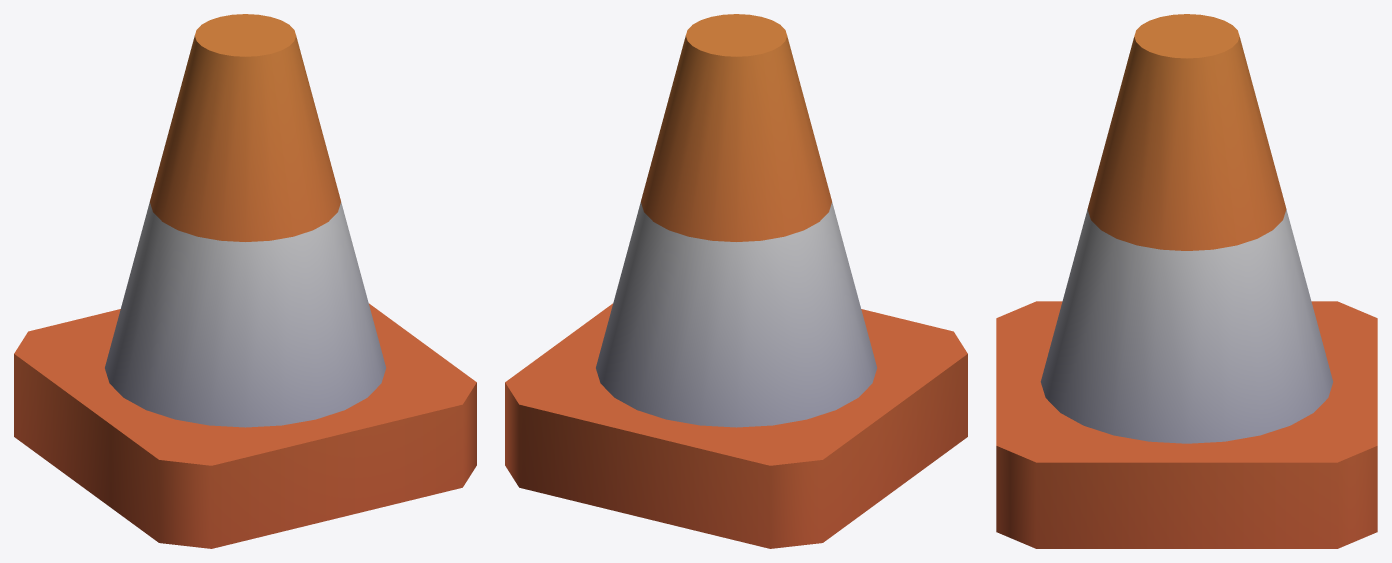
3 views of the same model, side by side, from view 1: azimuth 30°, elevation 25°; view 2: azimuth 150°, elevation 25°; view 3: azimuth 270°, elevation 25° (orthographic). The views are drawn at different scales.
Visible parts, largest first — view 1: cone; view 2: cone; view 3: cone.
Part boxes in pixels (left/top/right/bottom): cone: left=14, top=14, right=476, bottom=548; cone: left=505, top=14, right=967, bottom=548; cone: left=996, top=14, right=1377, bottom=548.
Bounding box in the file's own units: 0.4762 × 0.5952 × 0.4762.
